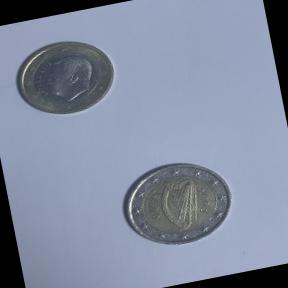coin: (110, 149, 244, 259), (2, 29, 125, 130)
